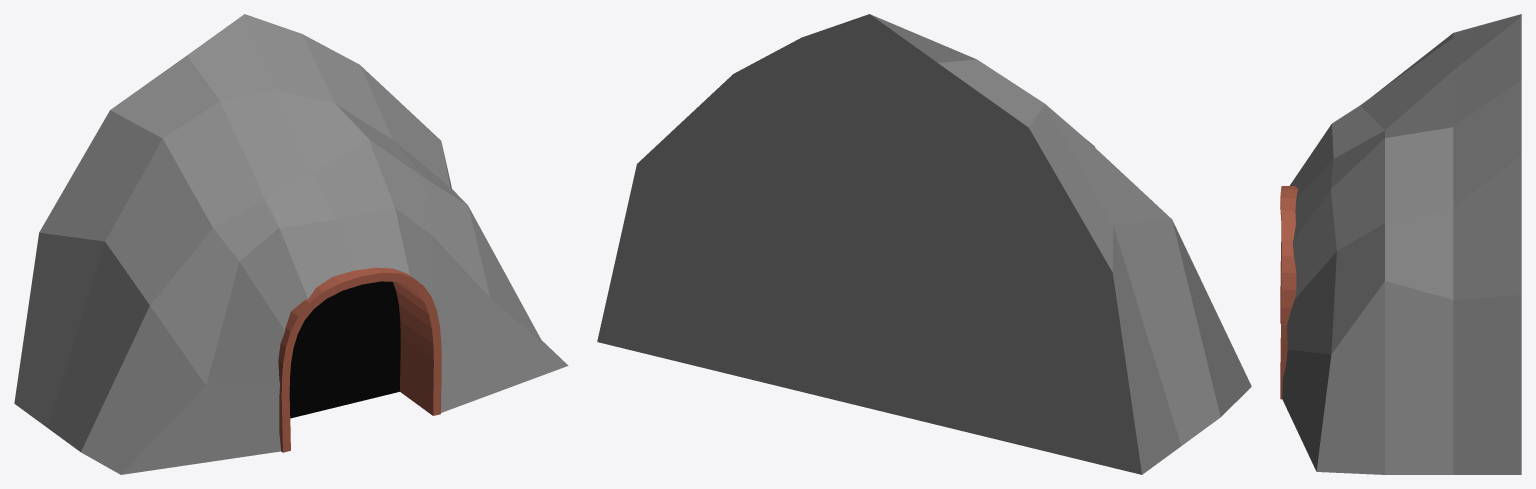
Rendered from tunnel.fbx.
The picture shows the model from 3 angles, left to right: view 1: azimuth 30°, elevation 25°; view 2: azimuth 150°, elevation 25°; view 3: azimuth 270°, elevation 25°; orthographic projection. The views are drawn at different scales.
Parts seen in each view (by area): view 1: Rock, Tunnel; view 2: Rock; view 3: Rock, Tunnel.
Boxes of the visible parts, x1,y1,x2,y2 form: Rock: (14,14,568,474); Tunnel: (278,267,441,452); Rock: (597,14,1251,474); Rock: (1282,14,1521,474); Tunnel: (1280,186,1297,399).
Size of the model in its own units: 400 by 277 by 177.
